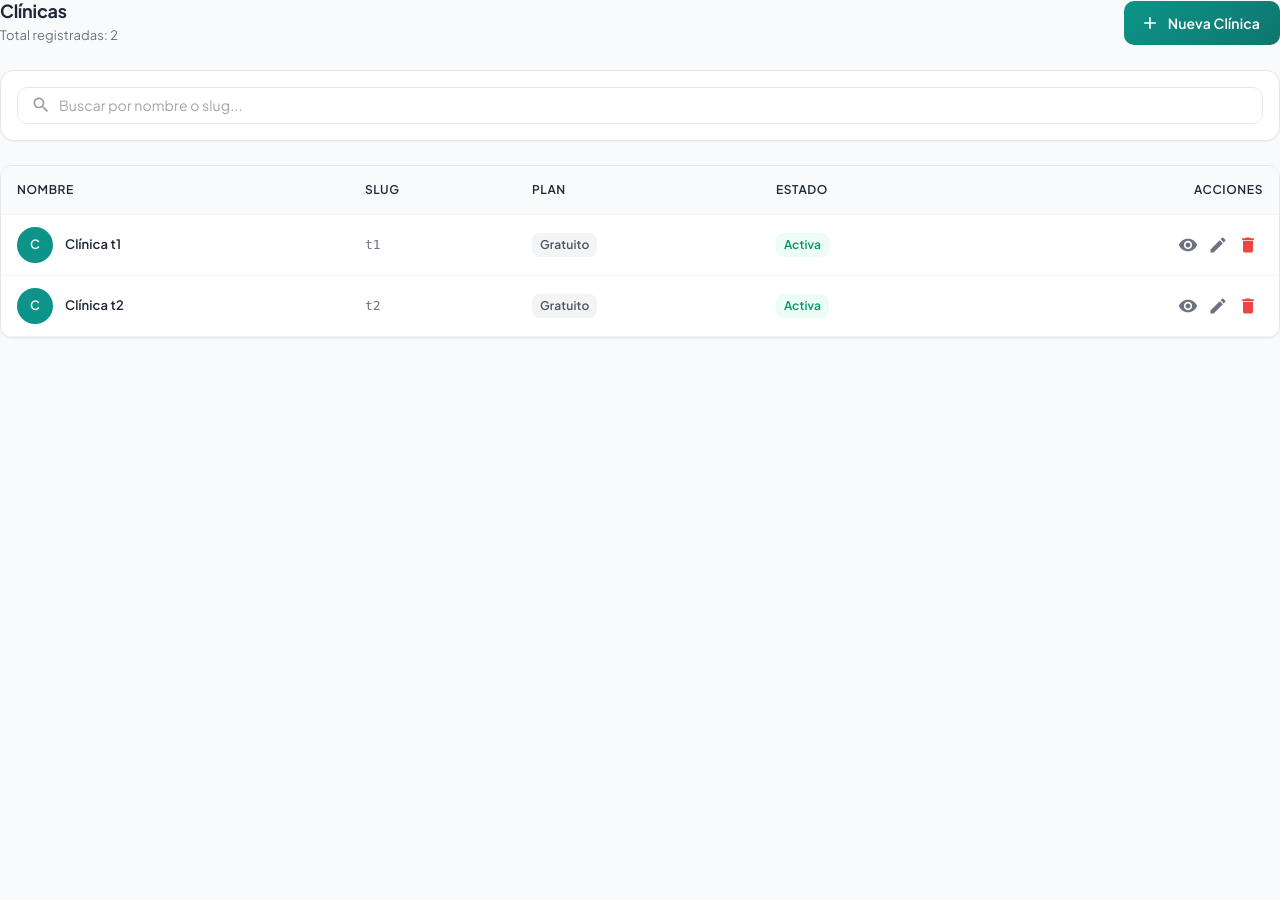
Scenario: SuperAdminTenantsPage › opens the edit dialog with the selected tenant
Check: the text "Clínica t1" is shown, box [17,227,121,263]
Step 1. Click the 3rd button → (1218, 245), box [1203,230,1233,260]
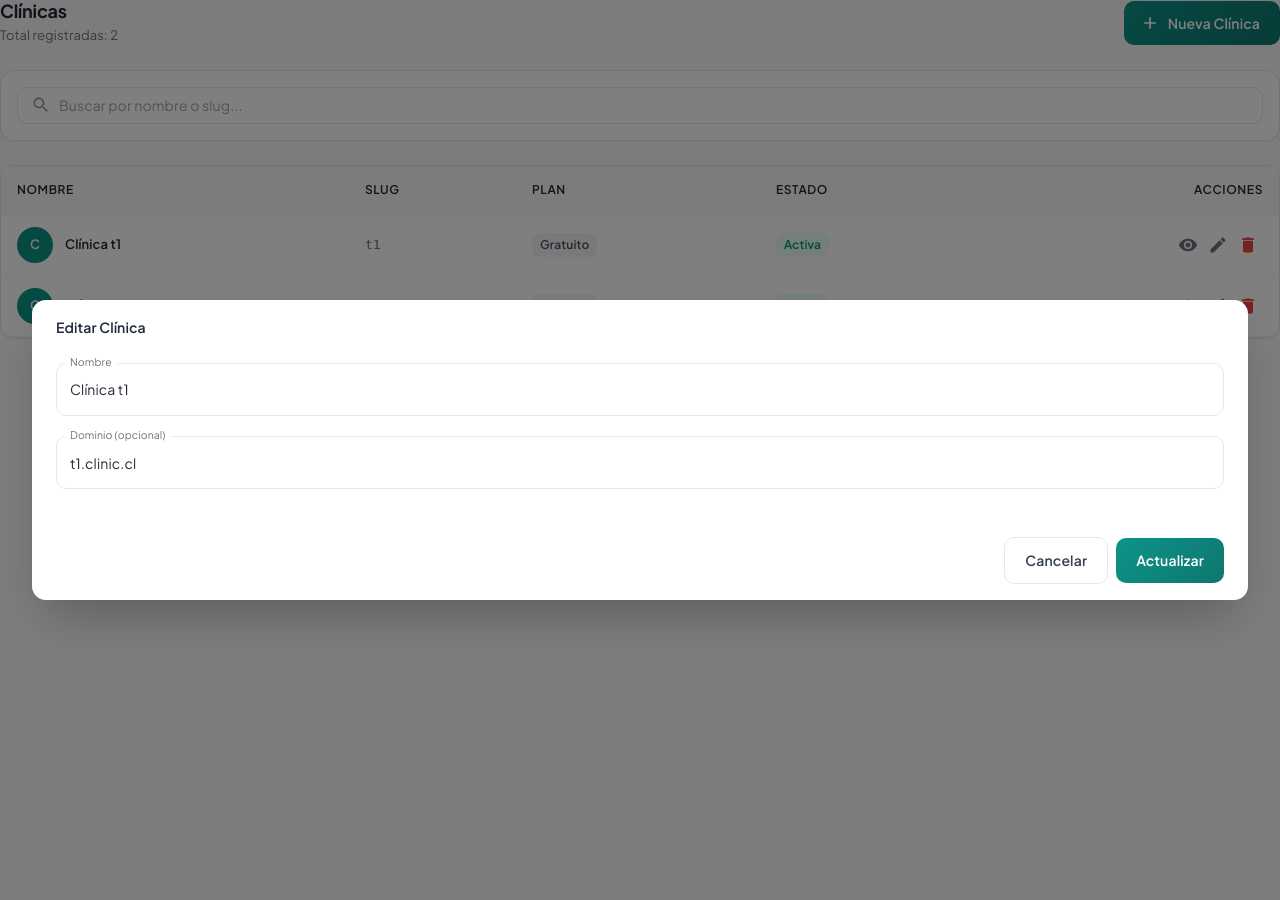
Check: the dialog is shown, box [32,300,1248,600]
Check: the heading "Editar Clínica" is shown, box [56,318,146,336]
